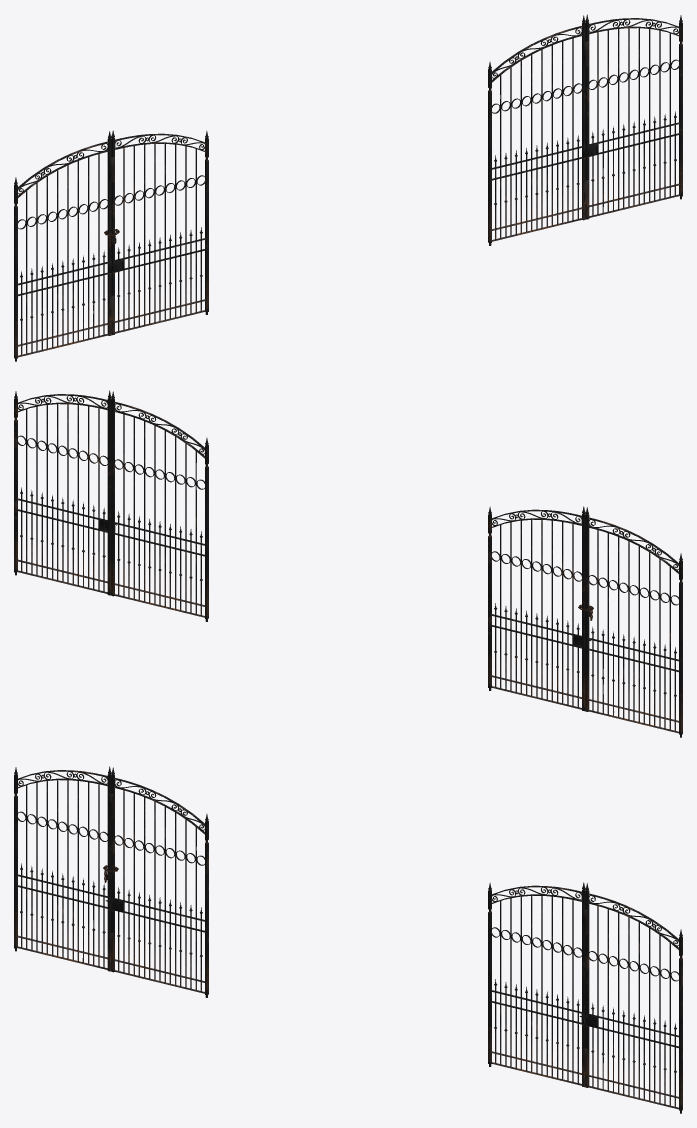
File: works-gates.glb
The picture shows the model from 3 angles, top to bottom: view 1: azimuth 30°, elevation 25°; view 2: azimuth 150°, elevation 25°; view 3: azimuth 330°, elevation 25°; orthographic projection.
Visible parts, largest first — view 1: large_iron_gate_right_door.001, large_iron_gate_right_door, large_iron_gate_left_door, large_iron_gate_left_door.001; view 2: large_iron_gate_left_door, large_iron_gate_right_door.001, large_iron_gate_left_door.001, large_iron_gate_right_door; view 3: large_iron_gate_right_door.001, large_iron_gate_right_door, large_iron_gate_left_door, large_iron_gate_left_door.001.
Part boxes in pixels (x1,y1,x2,y2): large_iron_gate_right_door.001: (583,14,682,219); large_iron_gate_right_door: (109,130,208,335); large_iron_gate_left_door: (14,131,112,361); large_iron_gate_left_door.001: (488,15,586,245); large_iron_gate_left_door: (585,507,682,737); large_iron_gate_right_door.001: (14,390,111,595); large_iron_gate_left_door.001: (111,391,208,621); large_iron_gate_right_door: (488,506,585,711); large_iron_gate_right_door.001: (582,883,682,1113); large_iron_gate_right_door: (108,767,208,997); large_iron_gate_left_door: (14,766,111,971); large_iron_gate_left_door.001: (488,882,585,1087).
Bounding box in the file's own units: 9.87 × 2.93 × 0.137.
5 materials, 4 textured.
